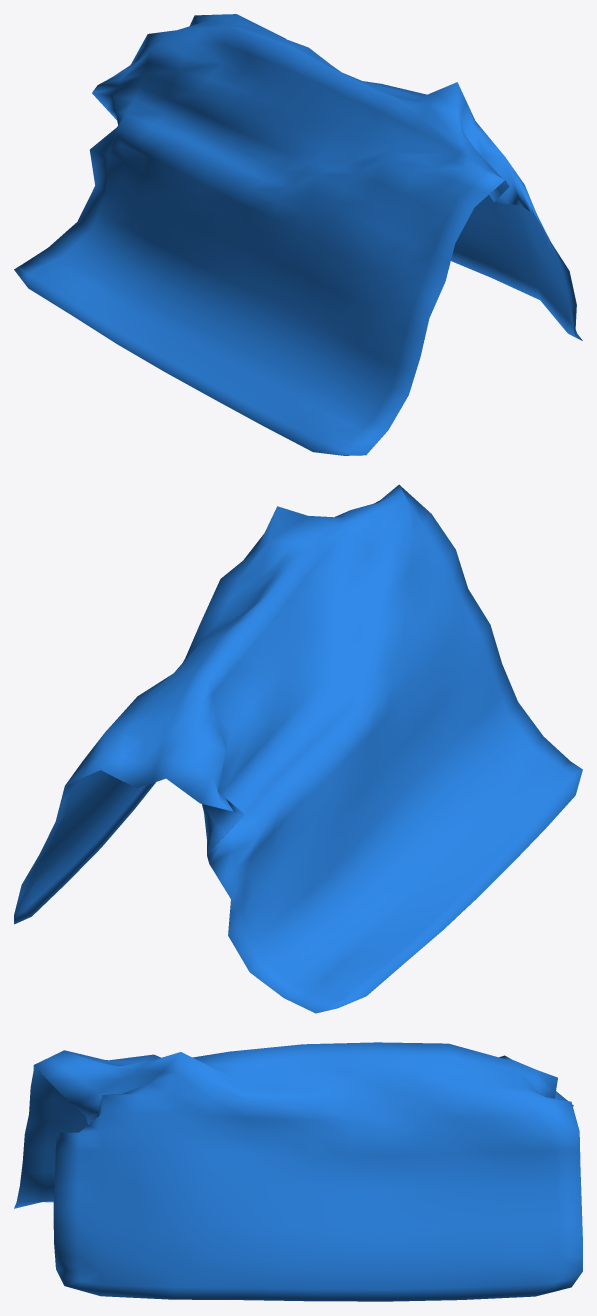
The model's file is COVER.fbx.
3 renders of one model, top to bottom at view 1: azimuth 30°, elevation 25°; view 2: azimuth 150°, elevation 25°; view 3: azimuth 270°, elevation 25°, orthographic. The views are drawn at different scales.
Parts seen in each view (by area): view 1: Plane.001; view 2: Plane.001; view 3: Plane.001.
Boxes of the visible parts, box(x1,y1,x2,y2) form: Plane.001: box(14, 14, 582, 455); Plane.001: box(14, 484, 582, 1013); Plane.001: box(14, 1042, 582, 1301).
Size of the model in its own units: 74.34 by 57.66 by 120.
